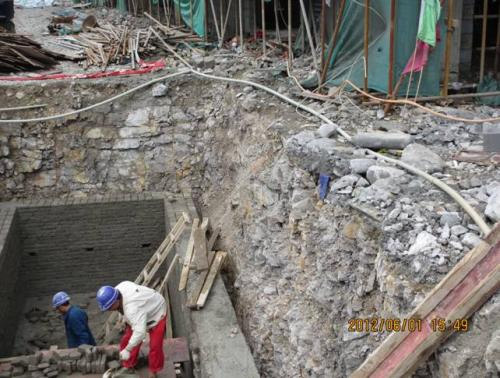gloves: (119, 348, 131, 360), (102, 367, 113, 377)
hard-hat: (96, 285, 118, 312), (52, 291, 69, 309)
person: (96, 279, 168, 377), (51, 291, 97, 349)
